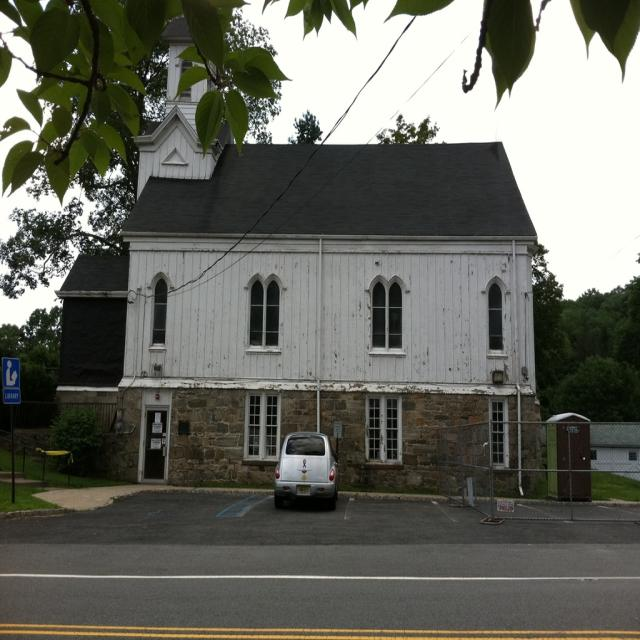car: (266, 423, 341, 508)
